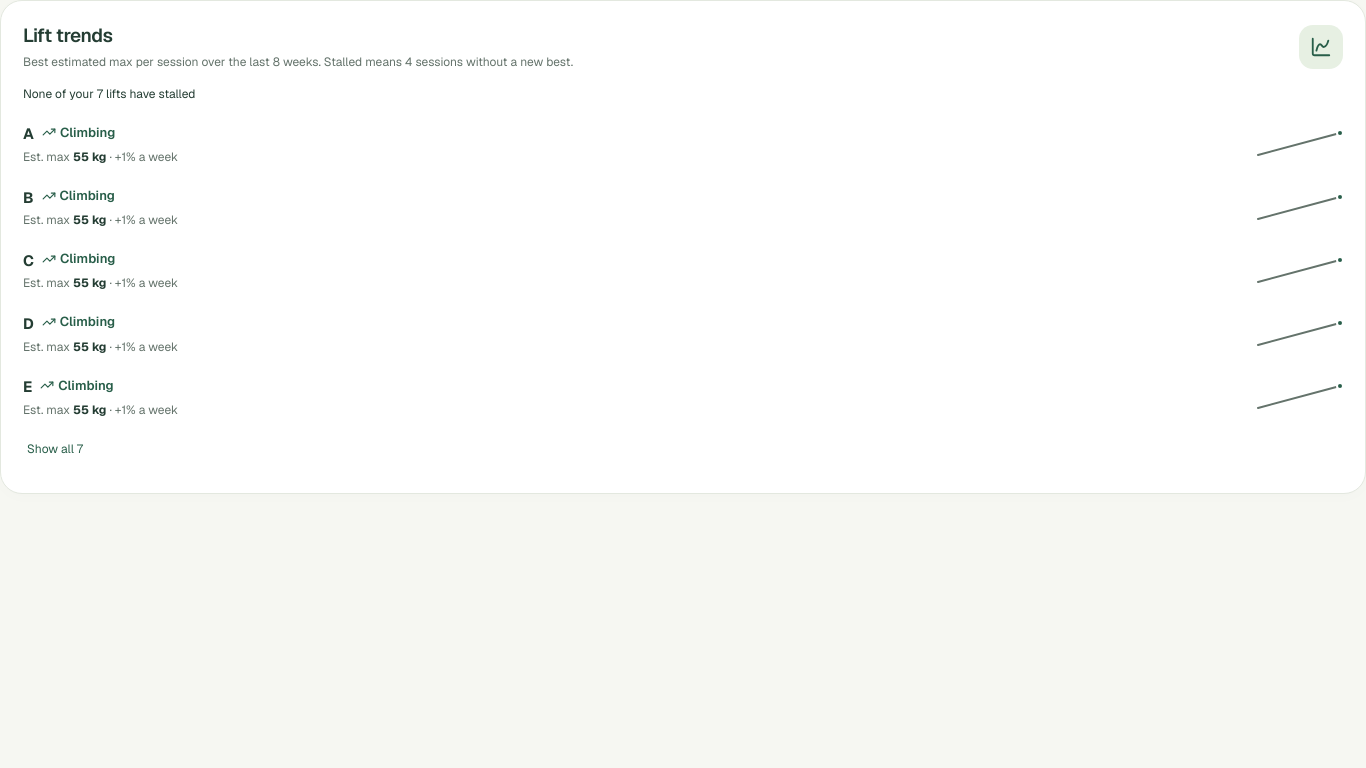
Test: Lift trends card › shows five lifts until asked for the rest
Check: the text "None of your 7 lifts have stalled" is shown, box x1=23 y1=86 x2=196 y2=102
Check: the number of buttons named "Open history" is 5, box x1=13 y1=115 x2=1353 y2=174; x1=13 y1=178 x2=1353 y2=237; x1=13 y1=241 x2=1353 y2=300; x1=13 y1=304 x2=1353 y2=364; x1=13 y1=368 x2=1353 y2=427
Click the button "Show all 7" at (55, 449), box x1=23 y1=427 x2=87 y2=471
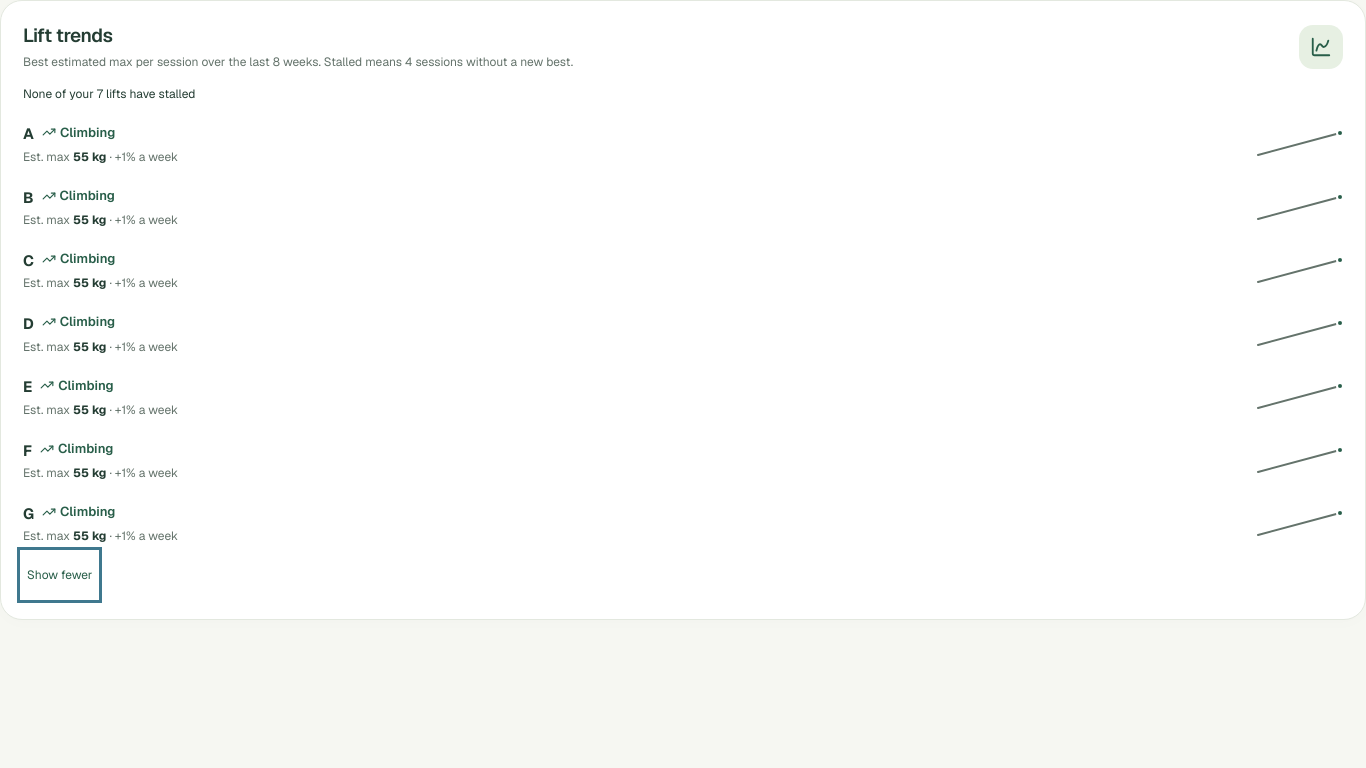
Check: the number of buttons named "Open history" is 7
Check: the button "Show fewer" is expanded, box x1=23 y1=553 x2=96 y2=597
